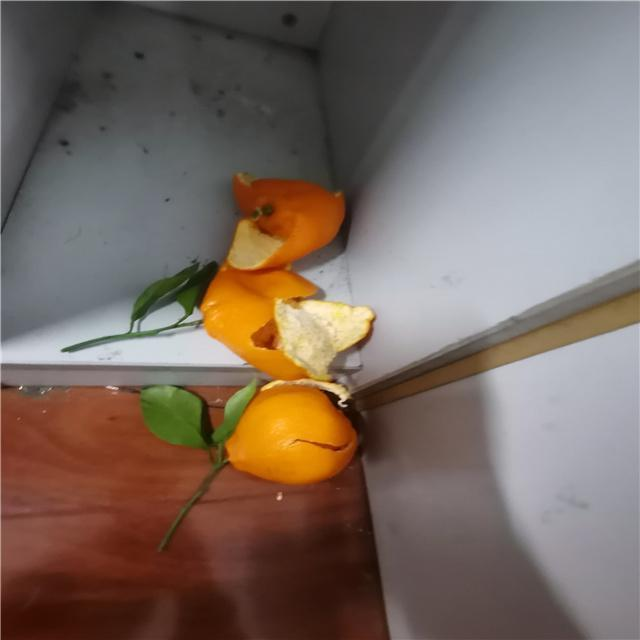orange peel: (65, 238, 387, 402), (117, 372, 380, 550), (208, 155, 352, 289)
